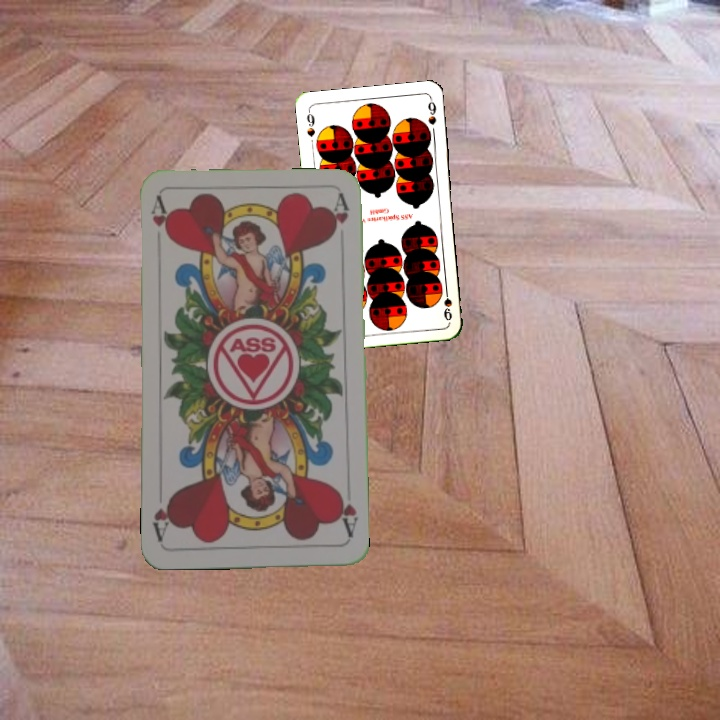HA: (333, 486, 360, 540), (147, 194, 173, 242)
S9: (440, 283, 455, 323), (302, 107, 317, 139)
